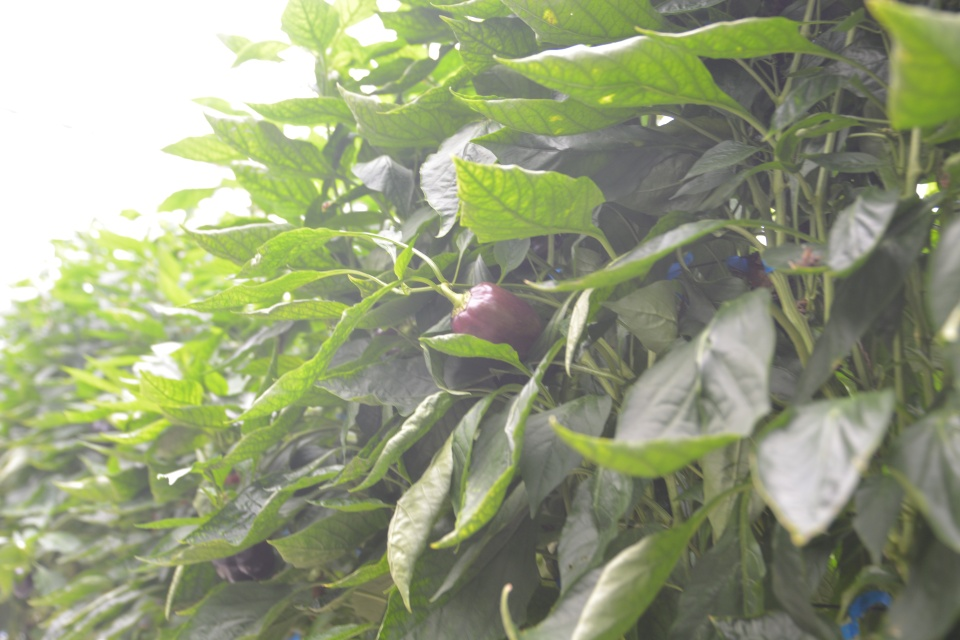fruit: (449, 281, 547, 360), (210, 534, 276, 585)
pedicle: (450, 291, 470, 317)
